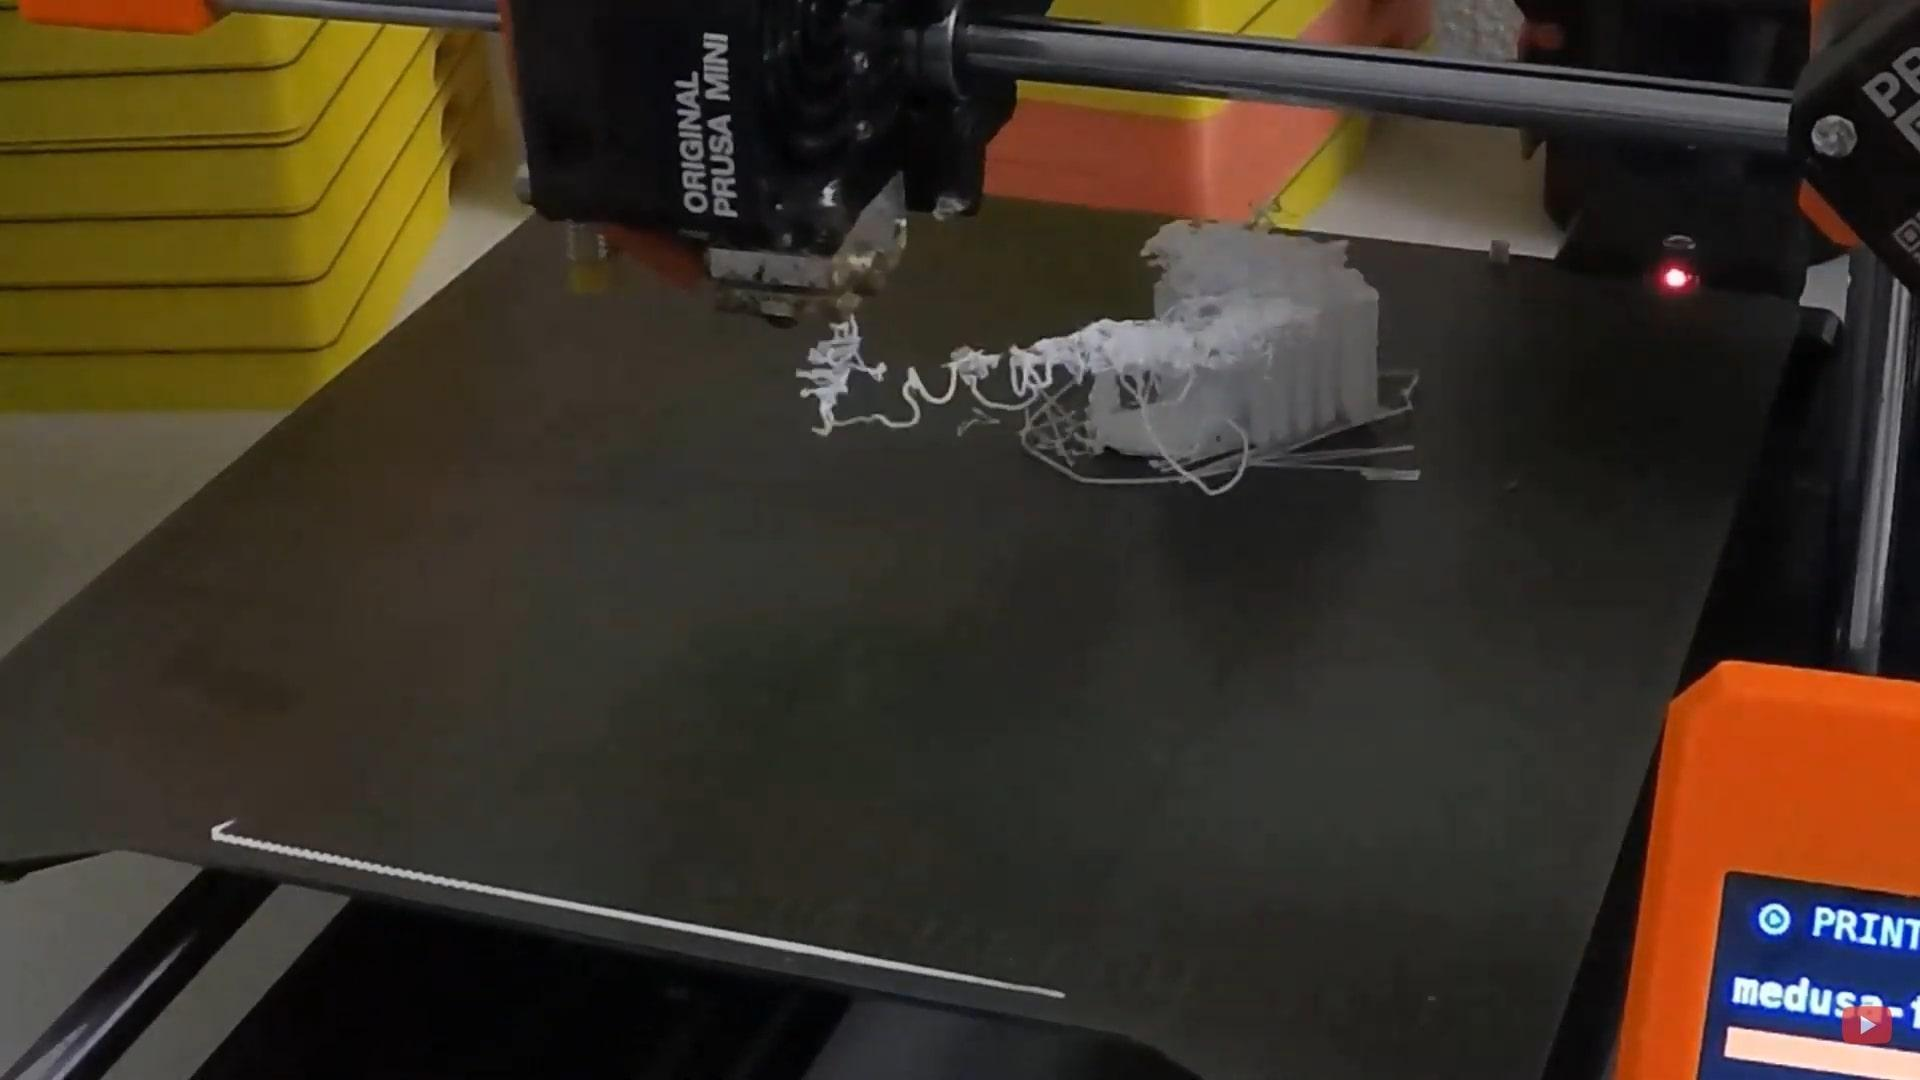Printing-Artifact: (781, 262, 1129, 474)
